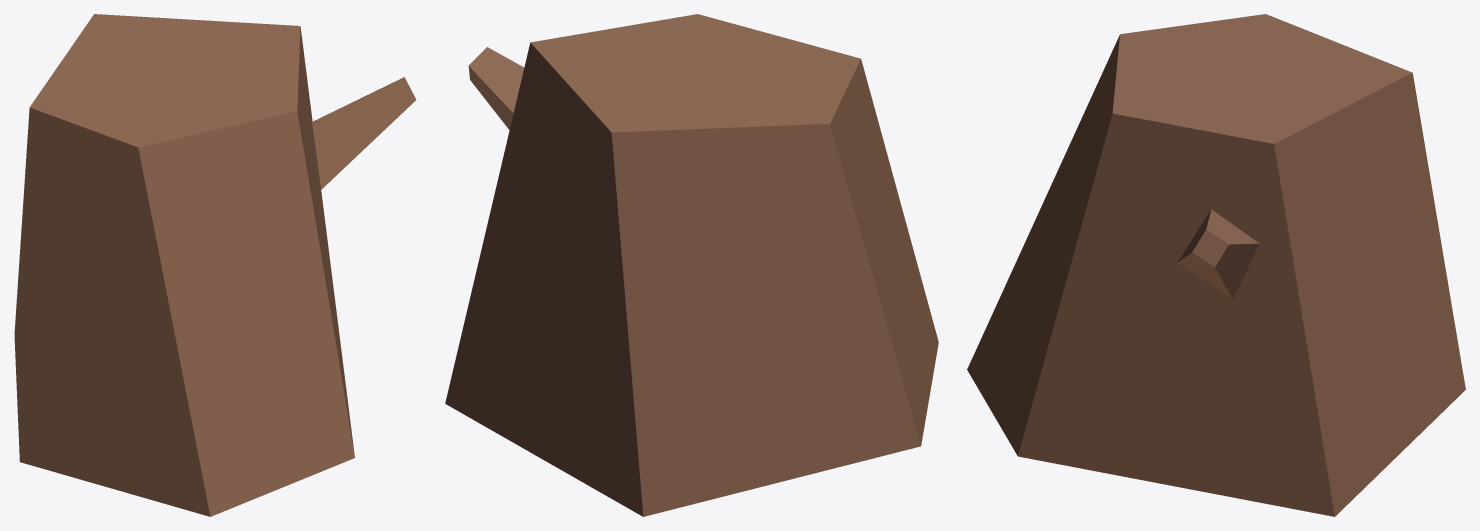
The model's file is StumpAutumn1.fbx.
The picture shows the model from 3 angles, left to right: view 1: azimuth 30°, elevation 25°; view 2: azimuth 150°, elevation 25°; view 3: azimuth 270°, elevation 25°; orthographic projection. The views are drawn at different scales.
Visible parts, largest first — view 1: StumpAutumn1; view 2: StumpAutumn1; view 3: StumpAutumn1.
Part boxes in pixels (<box>): StumpAutumn1: <box>14,14,416,516</box>; StumpAutumn1: <box>445,14,938,516</box>; StumpAutumn1: <box>967,14,1465,516</box>.
Size of the model in its own units: 0.5186 by 0.3998 by 0.5206.
